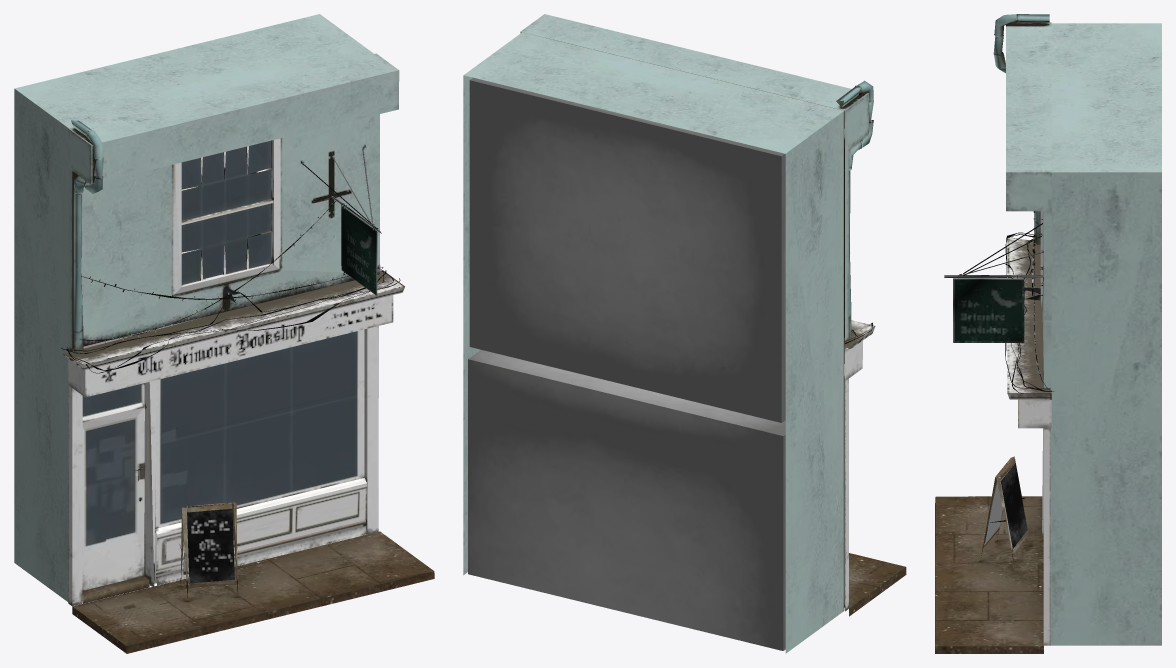
The model's file is bookshop_lod1.glb.
3 views of the same model, side by side, from view 1: azimuth 30°, elevation 25°; view 2: azimuth 150°, elevation 25°; view 3: azimuth 270°, elevation 25° (orthographic). The views are drawn at different scales.
Parts seen in each view (by area): view 1: bookshop; view 2: bookshop; view 3: bookshop.
Boxes of the visible parts, box(x1,y1,x2,y2) form: bookshop: box(14, 14, 434, 653); bookshop: box(463, 14, 906, 653); bookshop: box(935, 14, 1161, 653).
Bounding box in the file's own units: 5.2 × 7.48 × 3.13.
Materials: 1 (1 with a texture image).
